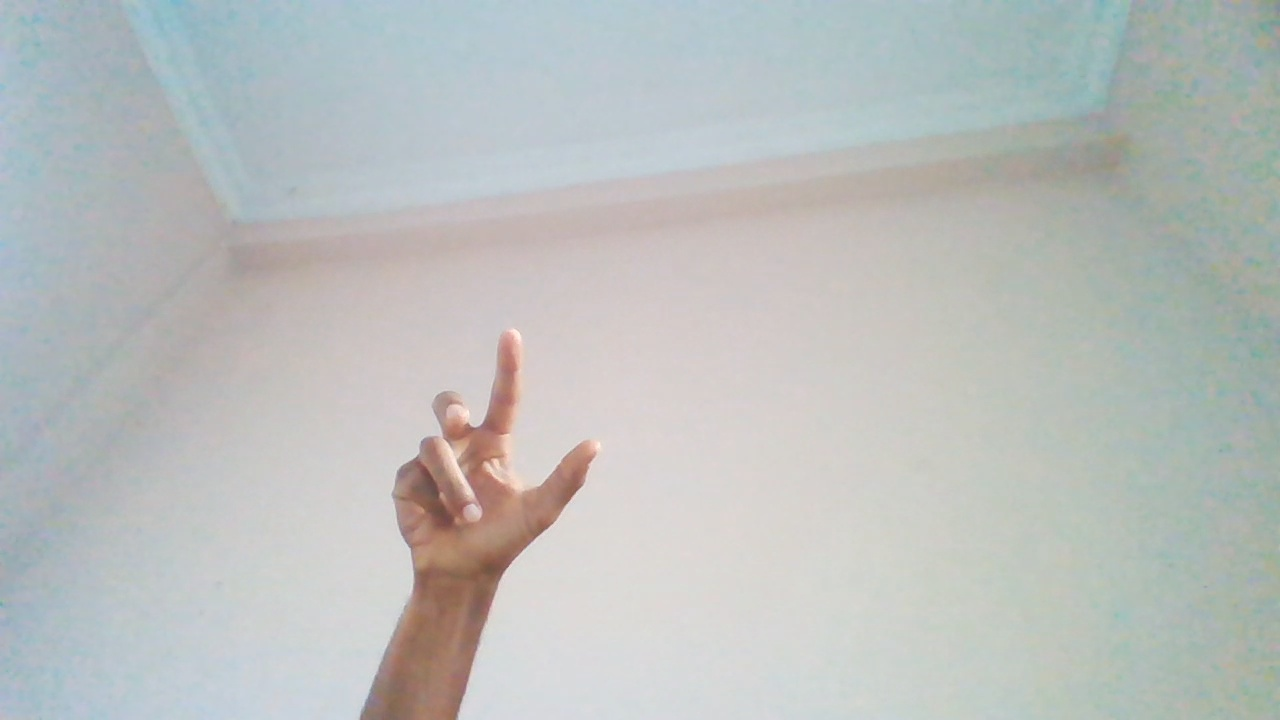hhe: (391, 327, 608, 668)
